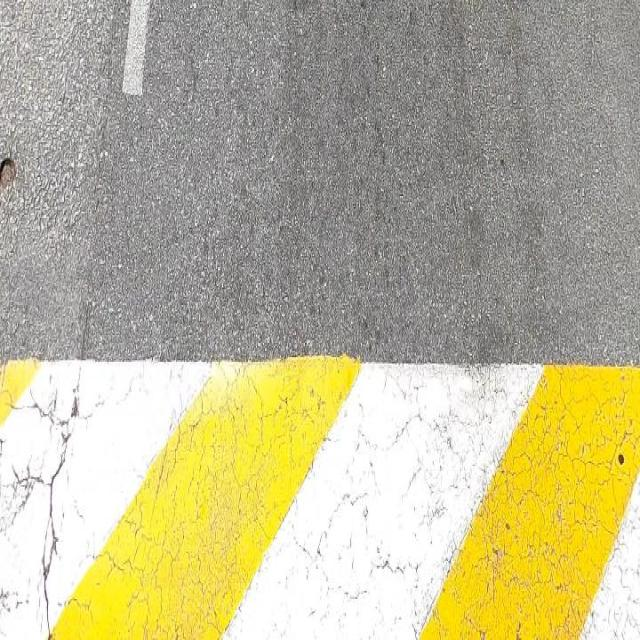cracks: (0, 329, 84, 640)
